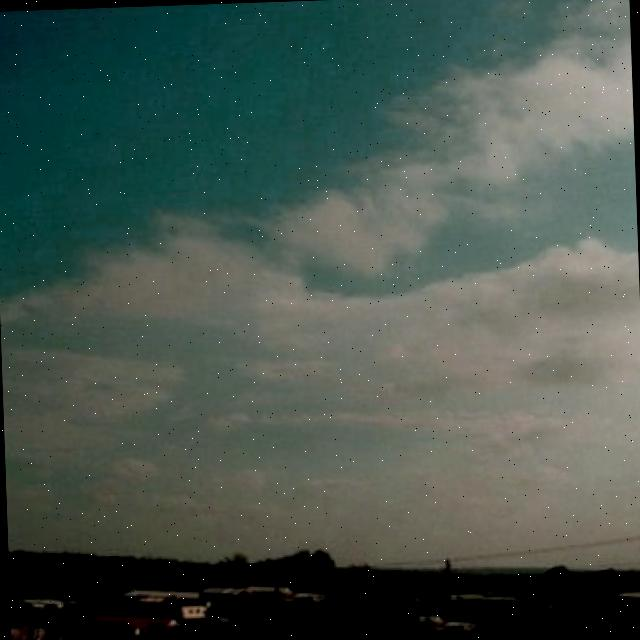St: (1, 189, 640, 499)
